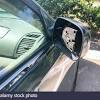Sidemirror-Damage: (51, 15, 93, 62)
